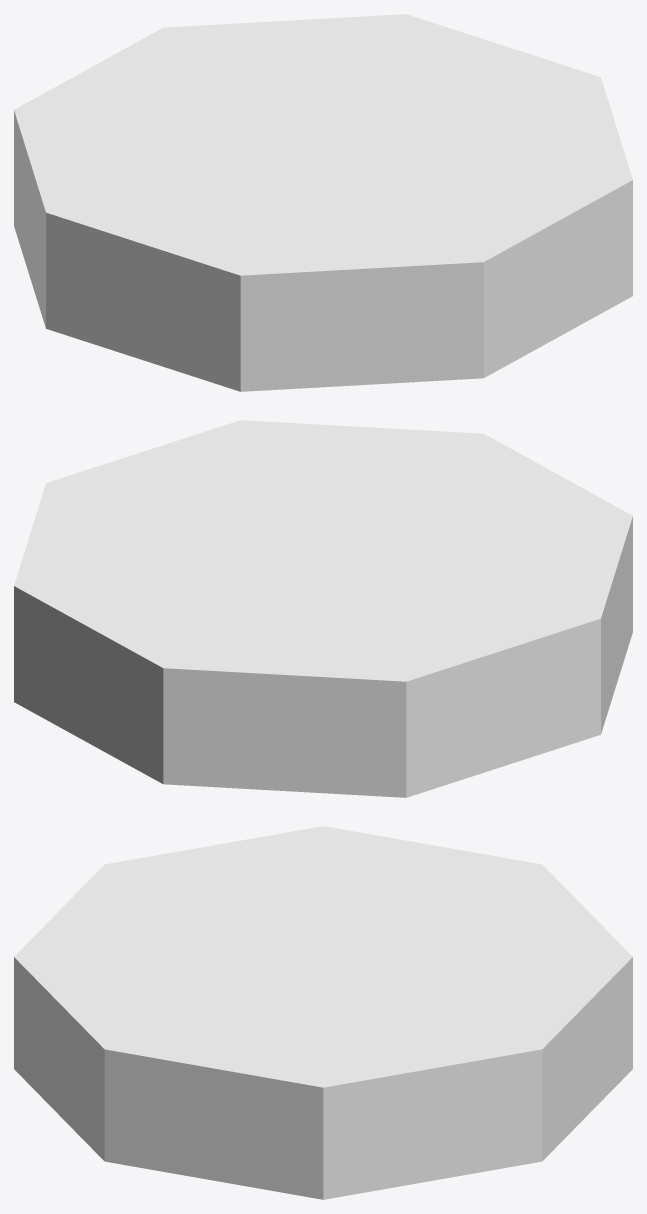
File: CeilingLight.gltf
3 renders of one model, top to bottom at view 1: azimuth 30°, elevation 25°; view 2: azimuth 150°, elevation 25°; view 3: azimuth 270°, elevation 25°, orthographic. The views are drawn at different scales.
Parts seen in each view (by area): view 1: Cylinder; view 2: Cylinder; view 3: Cylinder.
Part boxes in pixels (left/top/right/bottom): Cylinder: left=14, top=14, right=632, bottom=391; Cylinder: left=14, top=420, right=632, bottom=797; Cylinder: left=14, top=826, right=632, bottom=1199.
Bounding box in the file's own units: 0.5 × 0.1881 × 0.5.
Materials: 2 (2 with a texture image).
